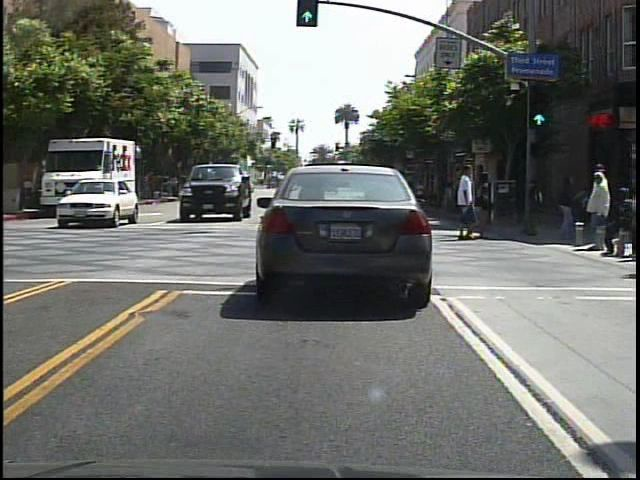person: (449, 161, 485, 246), (550, 171, 581, 242), (590, 167, 614, 258), (526, 172, 549, 236)
